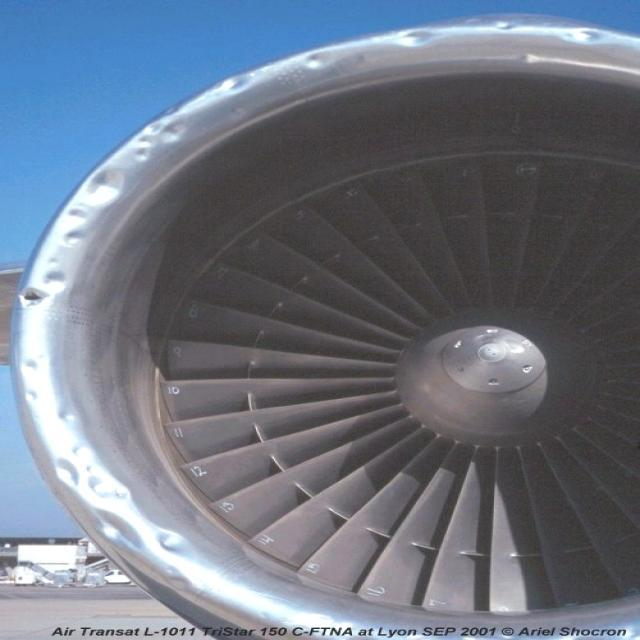dent: (51, 446, 206, 594), (29, 174, 130, 295)
